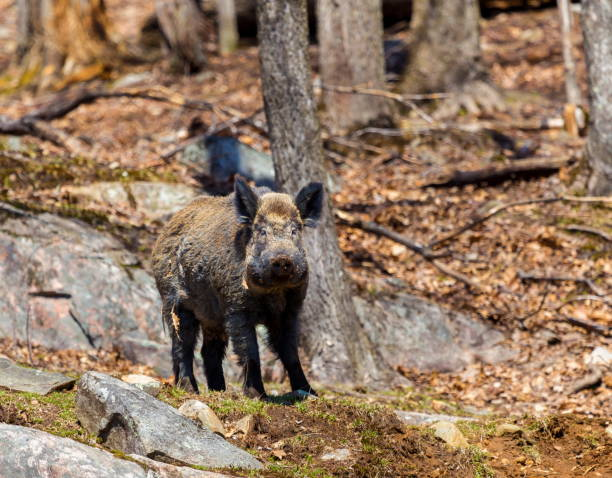pig: (142, 175, 328, 393)
